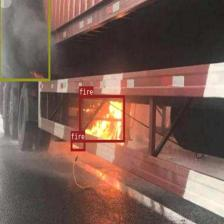fire: (78, 94, 124, 142), (70, 140, 85, 150)
smoke: (0, 0, 49, 80)
